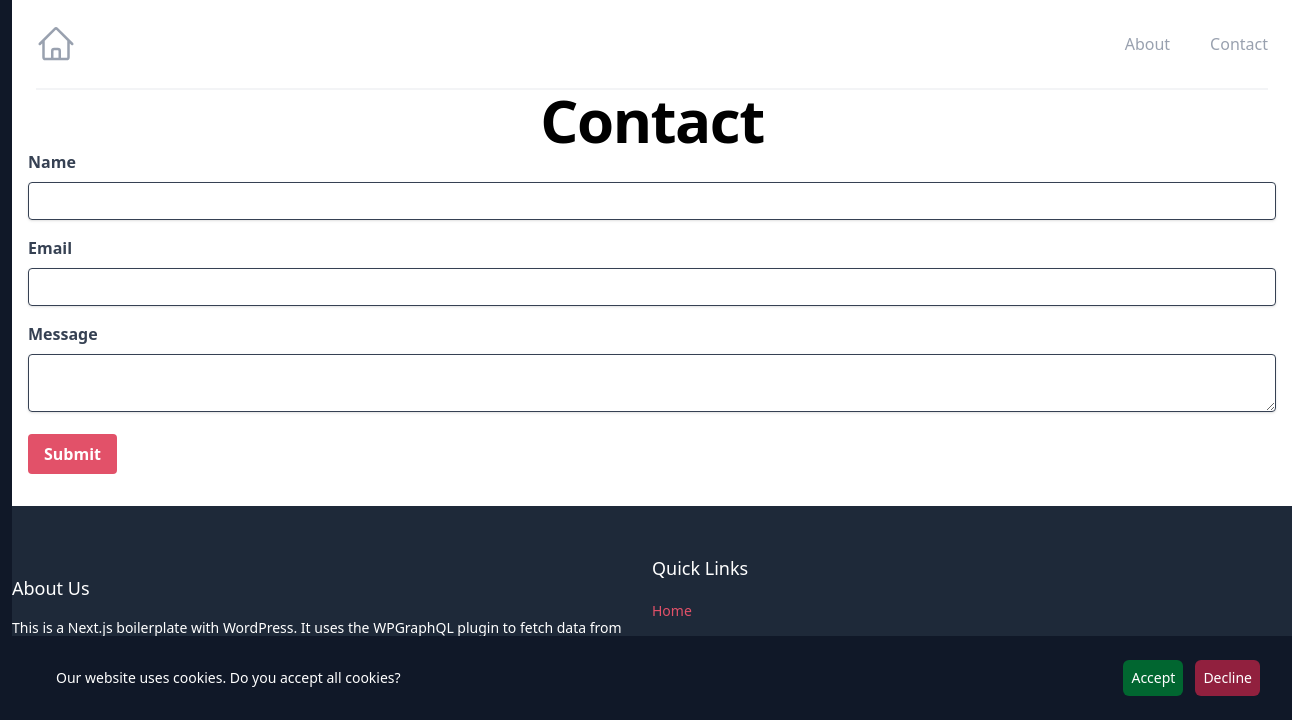
Test case: Contact page › Form validation › should have error message if empty
Click the button "Submit".
click(72, 454)  # box [28, 434, 117, 474]
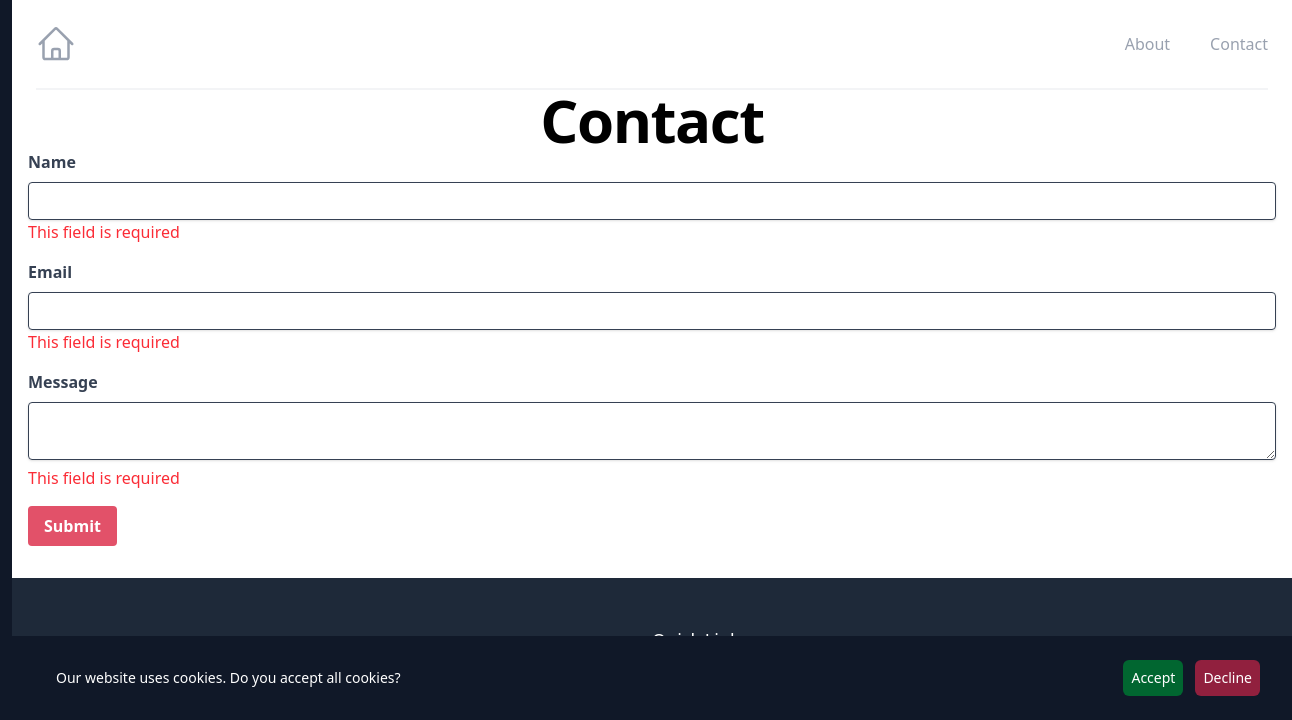
Check: the text "This field is required" below "Name" is shown, box [28, 221, 180, 243]
